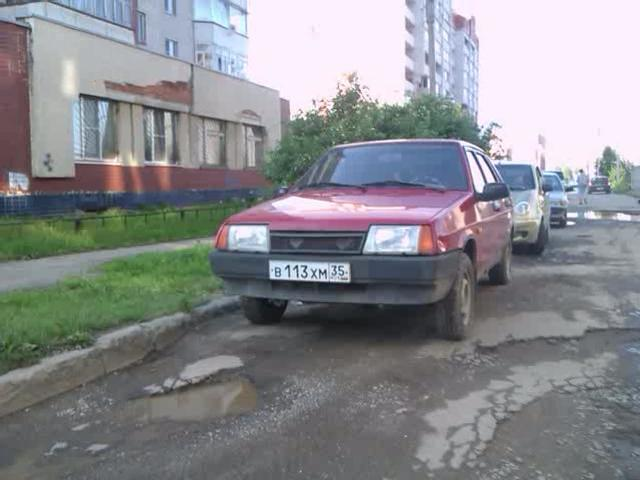car license plate: (265, 256, 352, 292)
